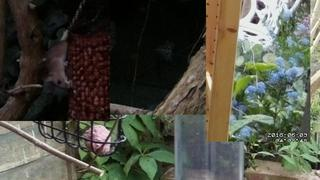mouse: (44, 40, 70, 89)
